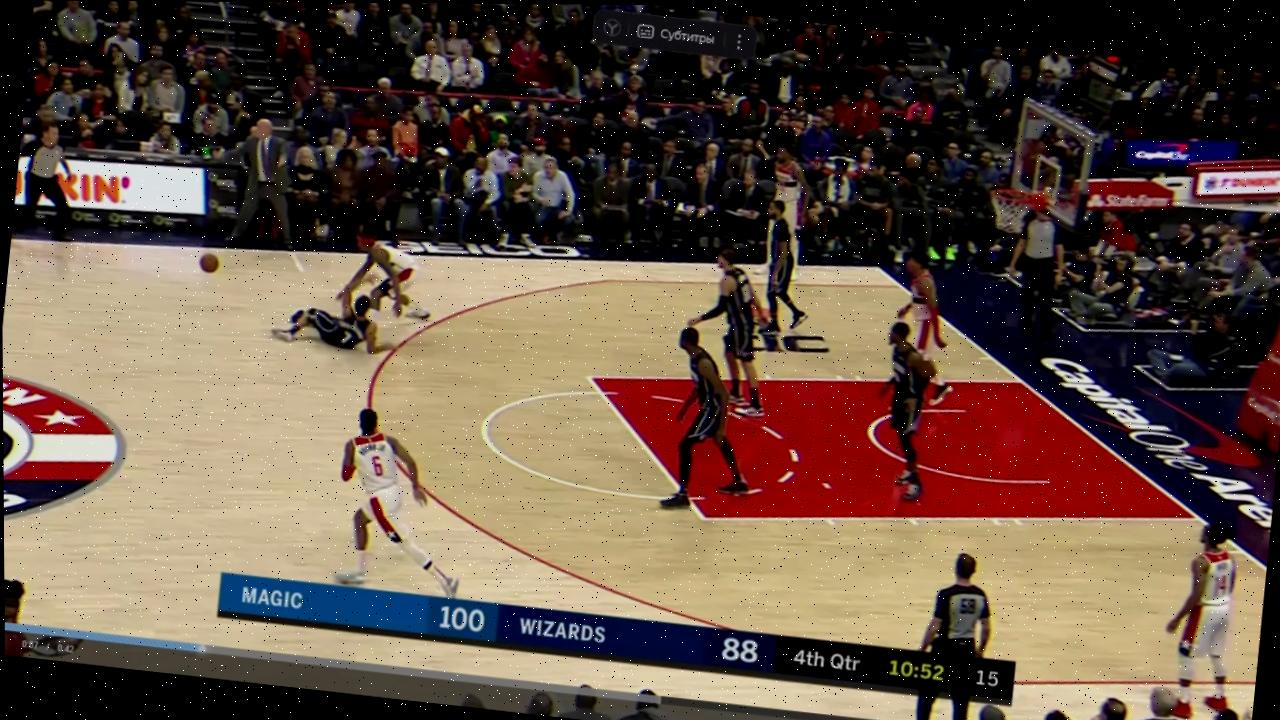foul: (269, 214, 455, 379)
